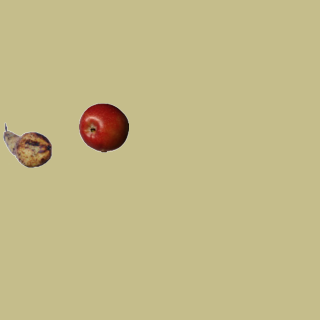Apple Braeburn: (78, 102, 128, 152)
Pear Abate: (2, 120, 52, 170)
